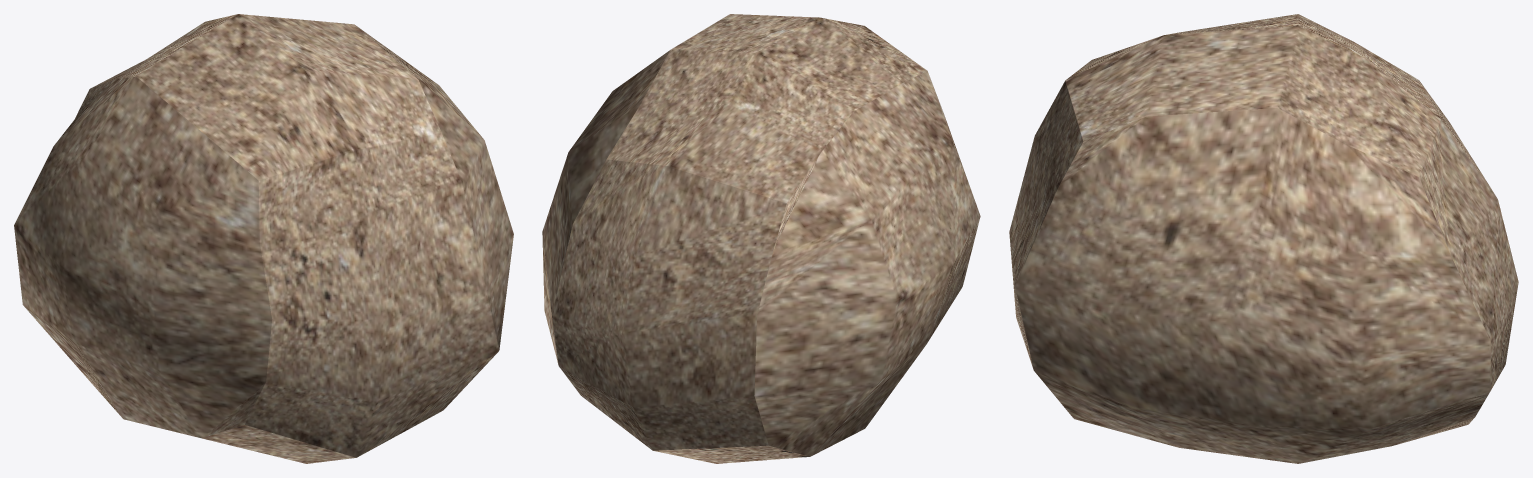
The model's file is rock.fbx.
The picture shows the model from 3 angles, left to right: view 1: azimuth 30°, elevation 25°; view 2: azimuth 150°, elevation 25°; view 3: azimuth 270°, elevation 25°; orthographic projection. The views are drawn at different scales.
Visible parts, largest first — view 1: pCube1; view 2: pCube1; view 3: pCube1.
Part boxes in pixels (x1,y1,x2,y2): pCube1: [14, 14, 513, 463]; pCube1: [542, 14, 980, 463]; pCube1: [1009, 14, 1518, 463].
Bounding box in the file's own units: 6.38 × 6.43 × 6.95.
1 material, 1 textured.
